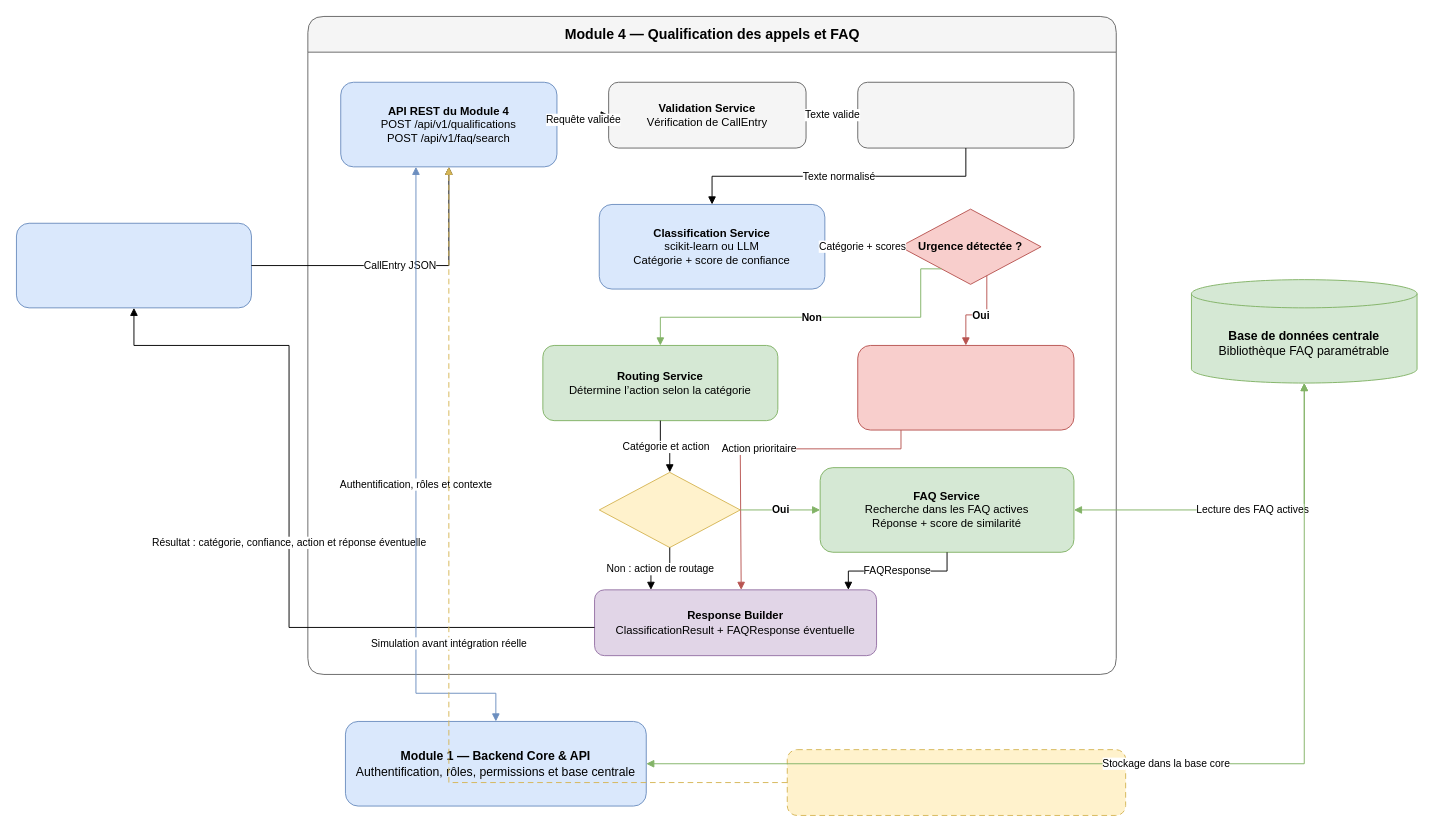
The diagram is 1434 pixels wide and 832 high, and some of its shapes have lost their labels. Each missing label, with the centre of its shape:
Emergency Handler Priorité absolue TRANSFER_IMMEDIATELY: point 965,387
FAQ applicable ?: point 669,509
Mocks de développement Mock Module 3 • Mock Module 1 • Mock transfert: point 956,782
Module 3 — Système téléphonique Appel, transcription et exécution du transfert: point 133,265
Text Preprocessing Service Nettoyage et normalisation: point 965,114
